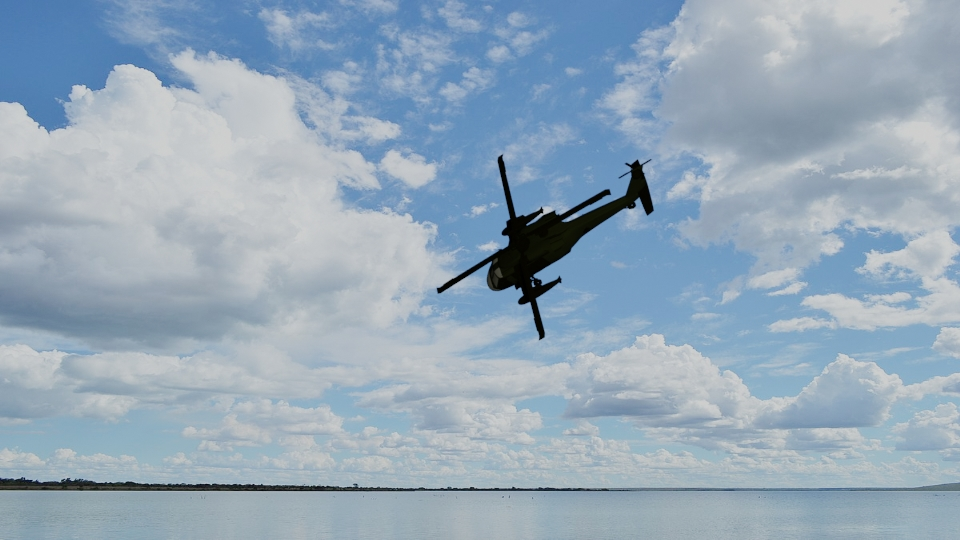heli: (433, 152, 657, 341)
